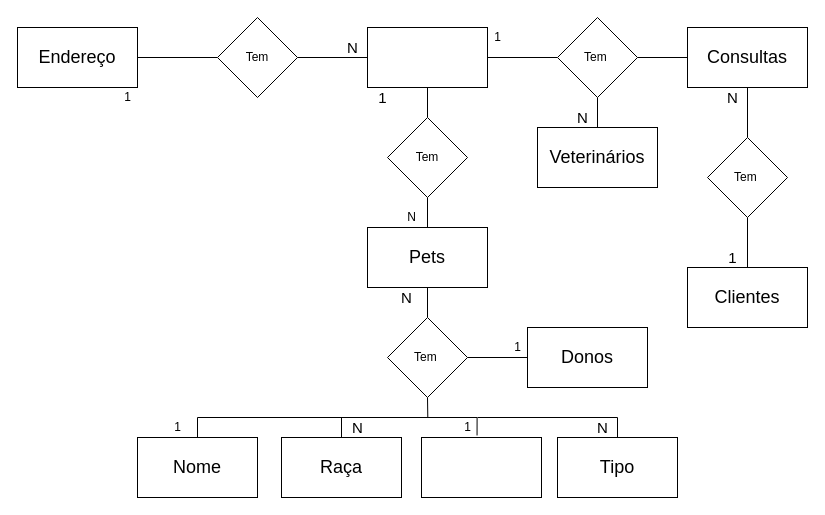
Image size: 825x515. Some labels were removed from this diagram. The box of each missing label's shape, as (x1, y1, x2, y2) in pixels:
Clinica: (366, 26, 488, 88)
Data Nascimento: (420, 436, 542, 498)
